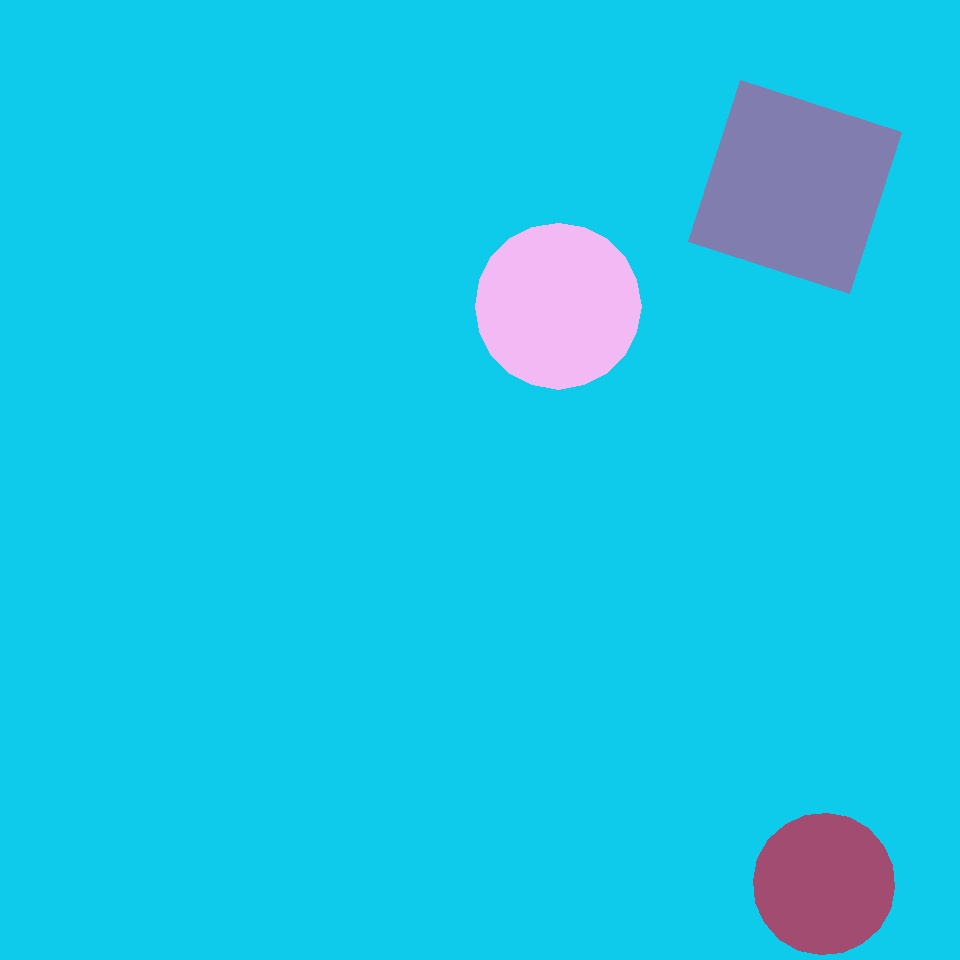circle: (56, 219, 378, 503)
square: (118, 302, 350, 535), (688, 80, 902, 294)
triangle: (475, 223, 641, 389), (69, 407, 227, 564), (753, 813, 894, 954)
